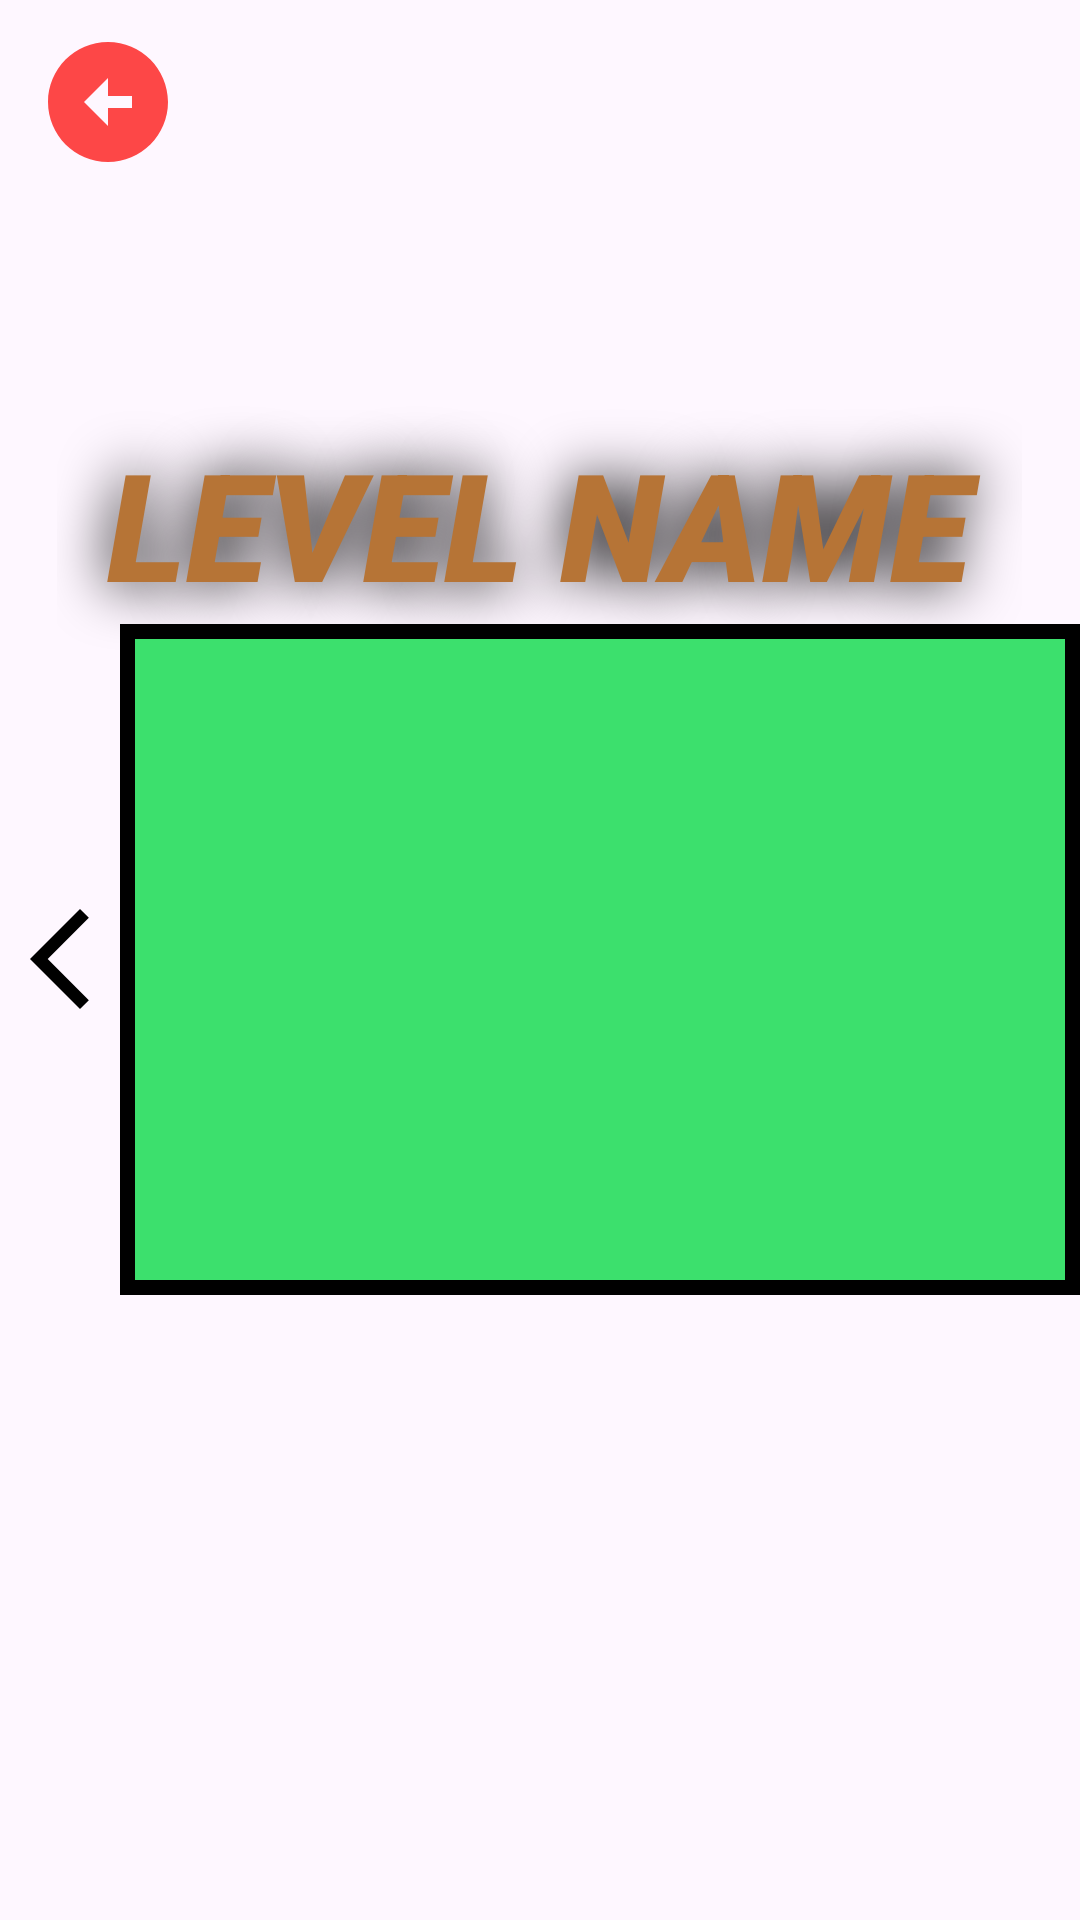

Screen size 1080×1920. Icon name, then its box in pixels as (x1, y1, x2, y2):
back arrow: (48, 42, 168, 162)
left arrow: (30, 909, 89, 1009)
